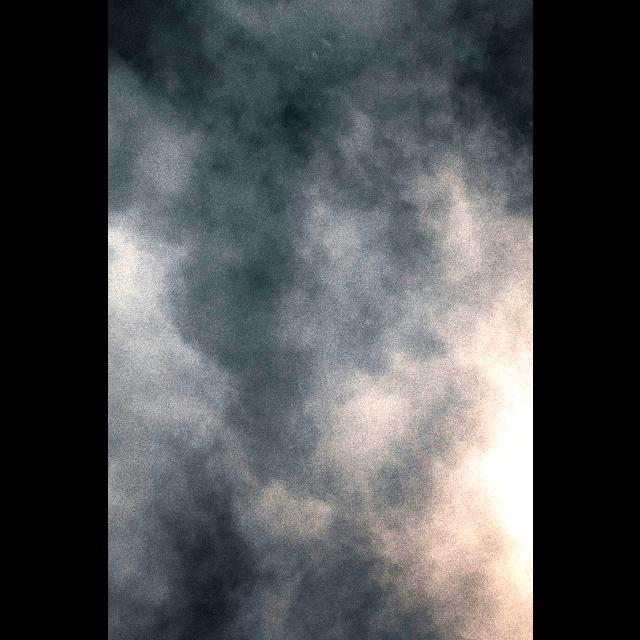smoke: (107, 0, 533, 640)
